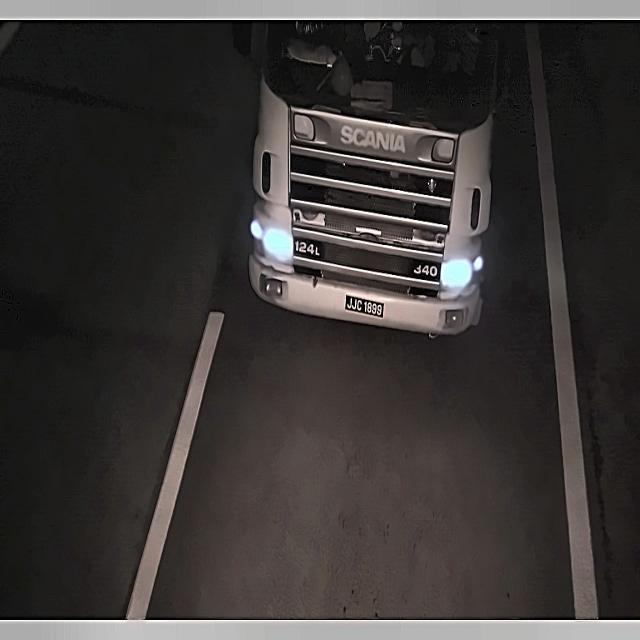car: (340, 289, 392, 328)
